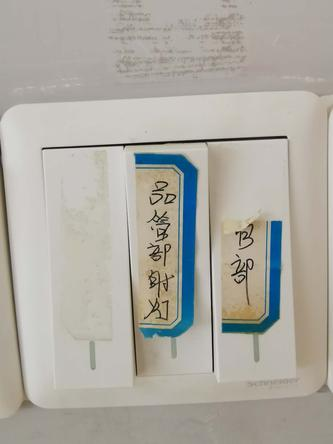switch: (32, 139, 143, 391), (201, 132, 307, 387), (120, 133, 220, 381)
